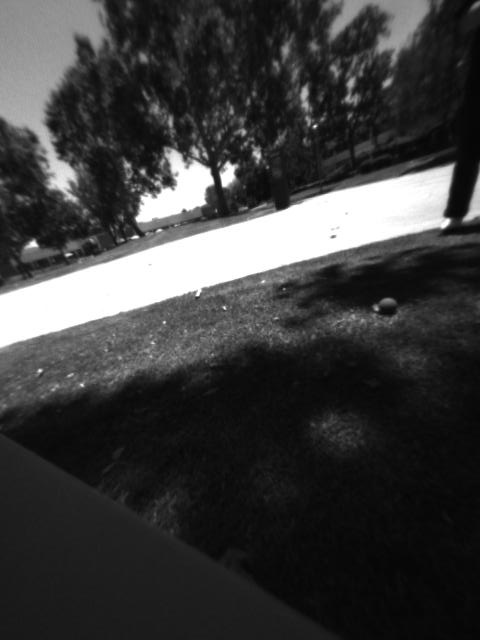dogtoy: (369, 287, 409, 322)
